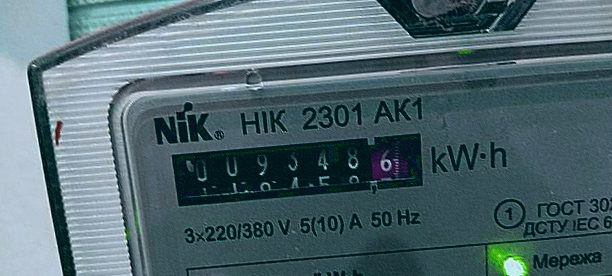0: (223, 153, 240, 177), (193, 155, 208, 182)
3: (283, 146, 300, 174)
4: (313, 144, 330, 172)
6: (376, 145, 395, 174)
8: (343, 142, 361, 171)
9: (253, 150, 270, 177)
screen: (161, 124, 435, 216)
